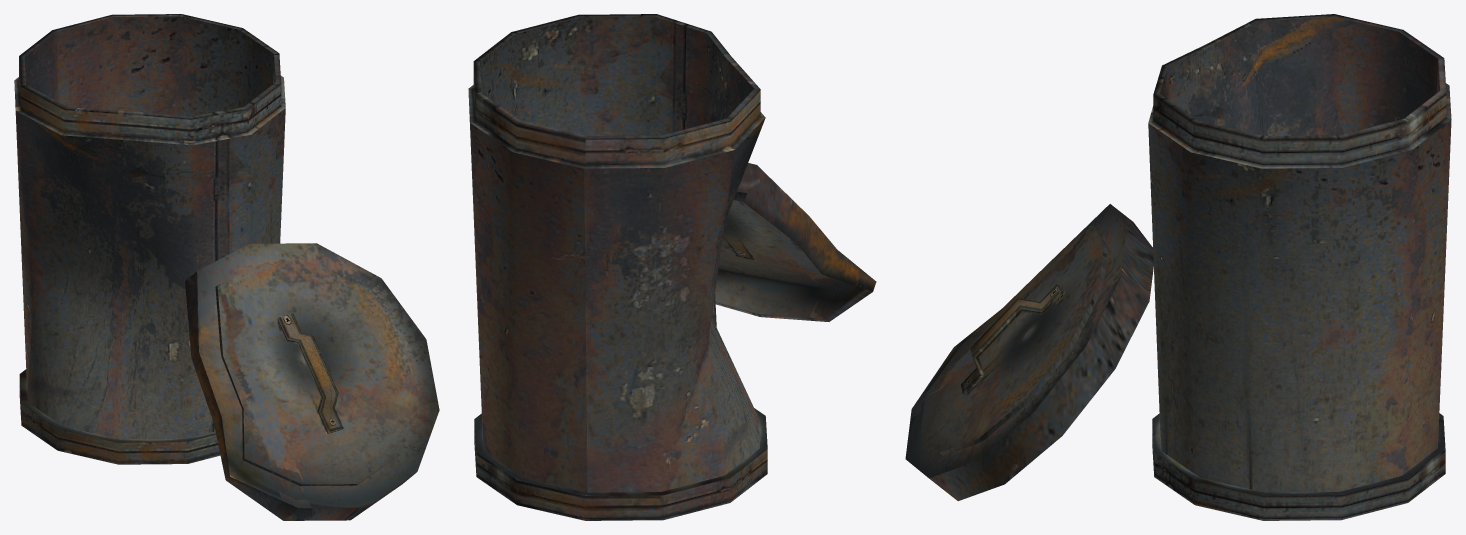
File: dented_metal_rubbish_bin_with_lid.fbx
The picture shows the model from 3 angles, left to right: view 1: azimuth 30°, elevation 25°; view 2: azimuth 150°, elevation 25°; view 3: azimuth 270°, elevation 25°; orthographic projection. The views are drawn at different scales.
Parts seen in each view (by area): view 1: polySurfa4; view 2: polySurfa4; view 3: polySurfa4.
Part boxes in pixels (x1,y1,x2,y2): polySurfa4: [14, 14, 439, 520]; polySurfa4: [468, 14, 876, 520]; polySurfa4: [905, 14, 1451, 520].
Size of the model in its own units: 22.95 by 27.19 by 34.98.
